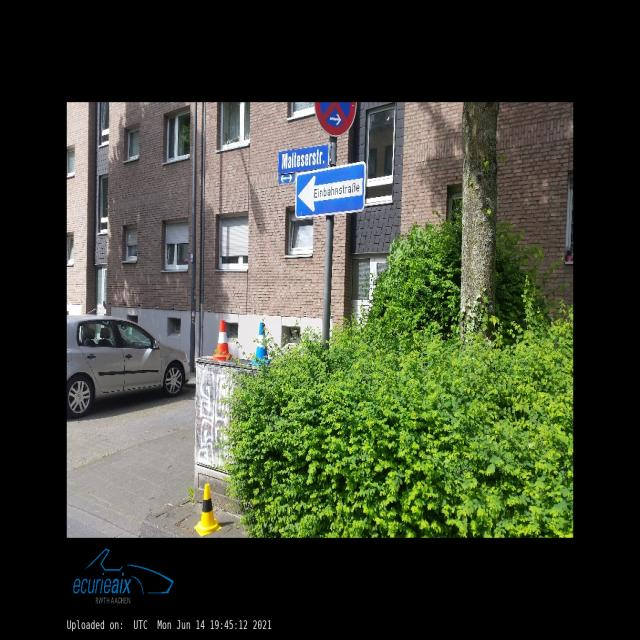blue_cone: (248, 322, 272, 365)
orange_cone: (210, 320, 232, 360)
yellow_cone: (195, 484, 221, 536)
